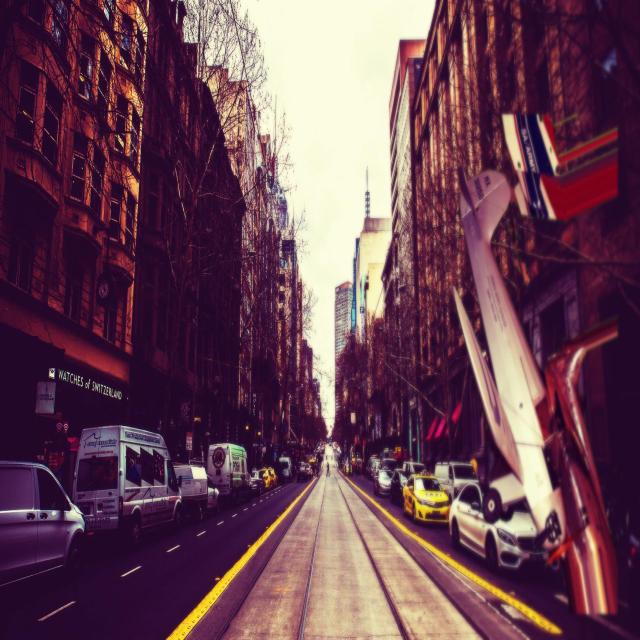airplane: (450, 164, 620, 620)
